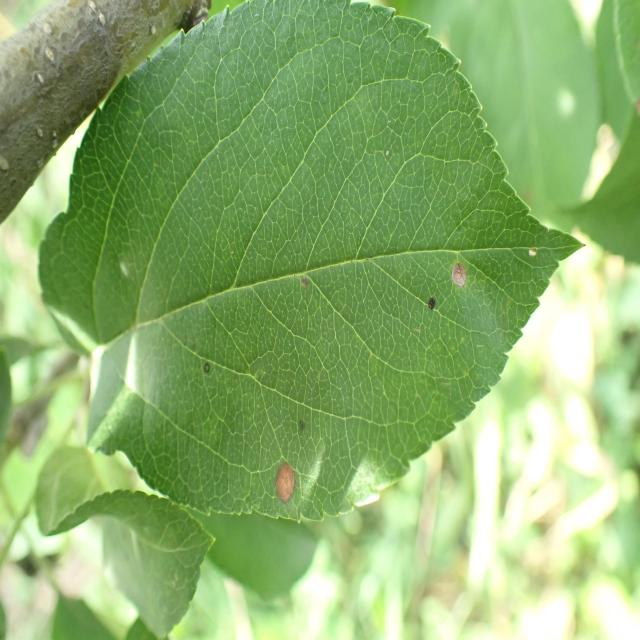Black Rot: (265, 423, 312, 536), (437, 237, 478, 309)
